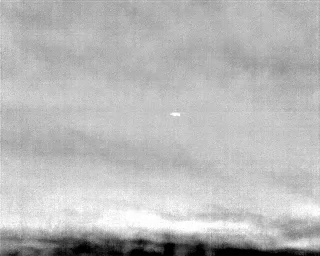BIRD: (168, 109, 183, 121)
